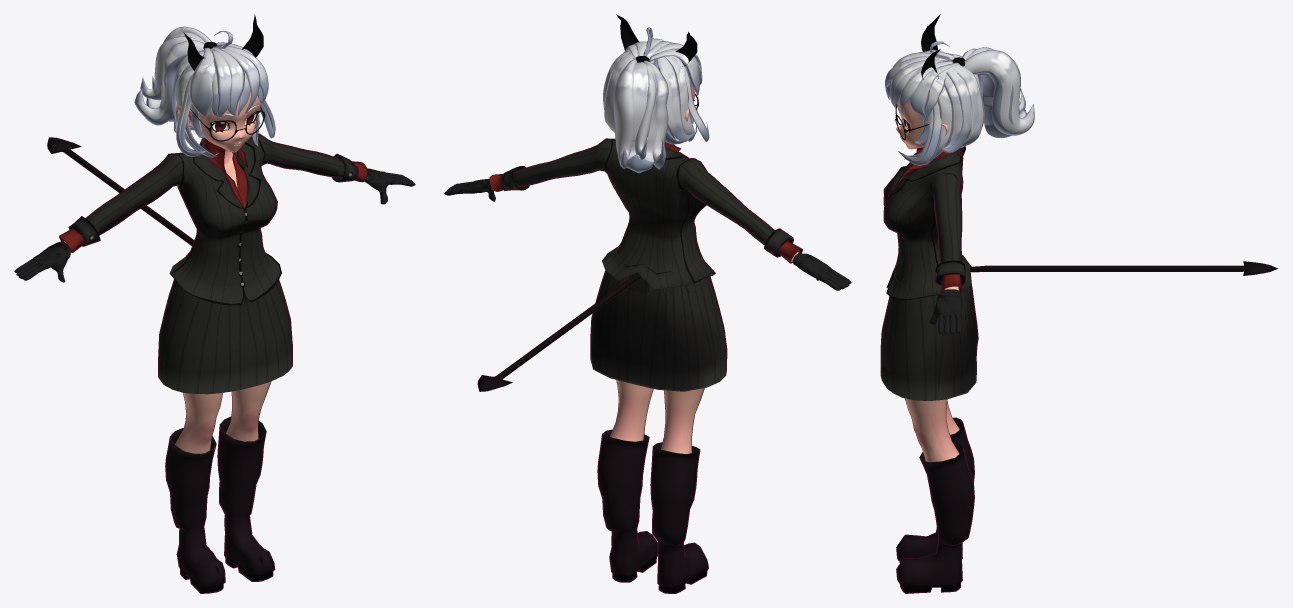
File: avatar2.glb
3 views of the same model, side by side, from view 1: azimuth 30°, elevation 25°; view 2: azimuth 150°, elevation 25°; view 3: azimuth 270°, elevation 25° (orthographic). The views are drawn at different scales.
Visible parts, largest first — view 1: BLAZER SHIRT AND SKIRT, HAIR, PANDEMONICA BODY BASEMESH, GLOVES, HORNS; view 2: BLAZER SHIRT AND SKIRT, HAIR, PANDEMONICA BODY BASEMESH, GLOVES, HORNS; view 3: BLAZER SHIRT AND SKIRT, HAIR, PANDEMONICA BODY BASEMESH, GLOVES, HORNS.
Boxes of the visible parts, <box> form: BLAZER SHIRT AND SKIRT: <box>59,133,367,593</box>; HAIR: <box>134,26,275,157</box>; PANDEMONICA BODY BASEMESH: <box>47,67,297,453</box>; GLOVES: <box>14,168,415,282</box>; HORNS: <box>183,14,263,70</box>; BLAZER SHIRT AND SKIRT: <box>489,138,802,593</box>; HAIR: <box>603,27,709,173</box>; PANDEMONICA BODY BASEMESH: <box>477,84,800,453</box>; GLOVES: <box>444,179,851,290</box>; HORNS: <box>616,14,697,66</box>; BLAZER SHIRT AND SKIRT: <box>880,146,978,593</box>; HAIR: <box>885,41,1034,165</box>; PANDEMONICA BODY BASEMESH: <box>896,98,1277,462</box>; GLOVES: <box>929,289,961,334</box>; HORNS: <box>921,14,940,79</box>.
Size of the model in its own units: 1.21 by 1.61 by 1.07.
Materials: 15 (7 with a texture image).
